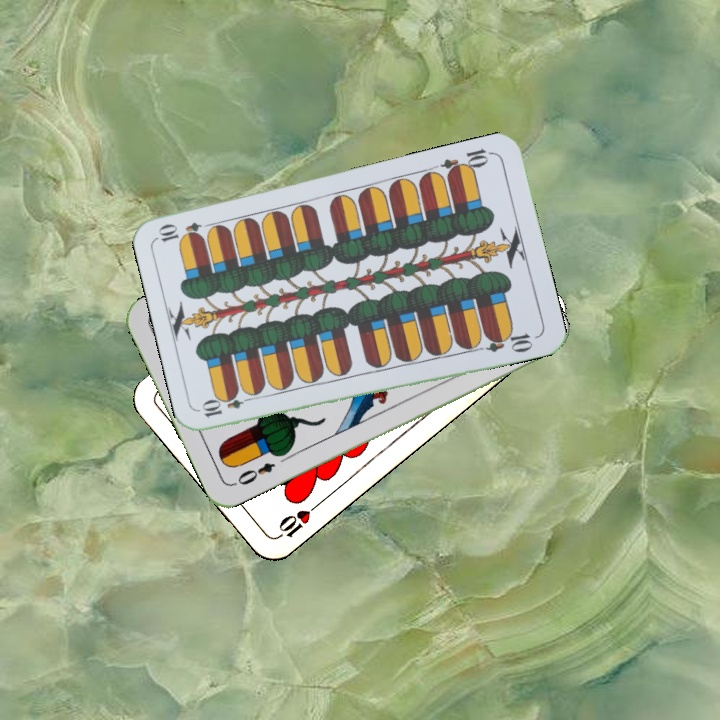E10: (437, 144, 496, 180), (198, 390, 257, 420)
EO: (229, 458, 278, 489)
H10: (272, 499, 322, 542)
